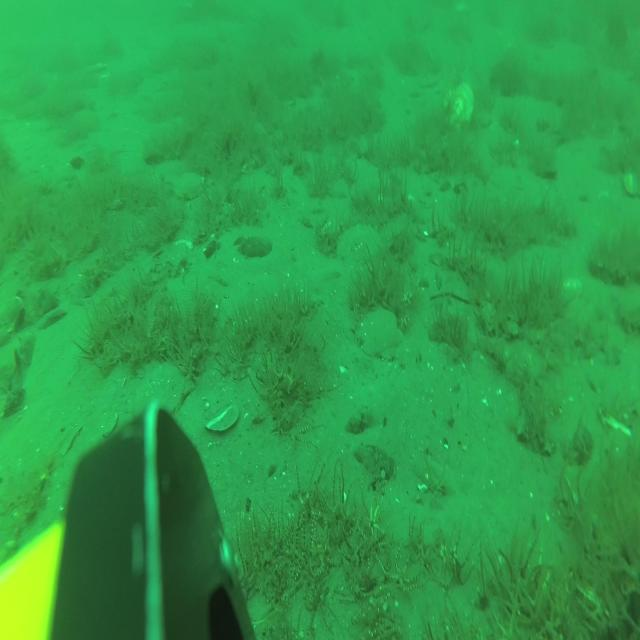scallop: (137, 366, 196, 427), (357, 308, 402, 357), (445, 83, 473, 126), (172, 172, 204, 200), (624, 170, 639, 196), (454, 3, 471, 15)
